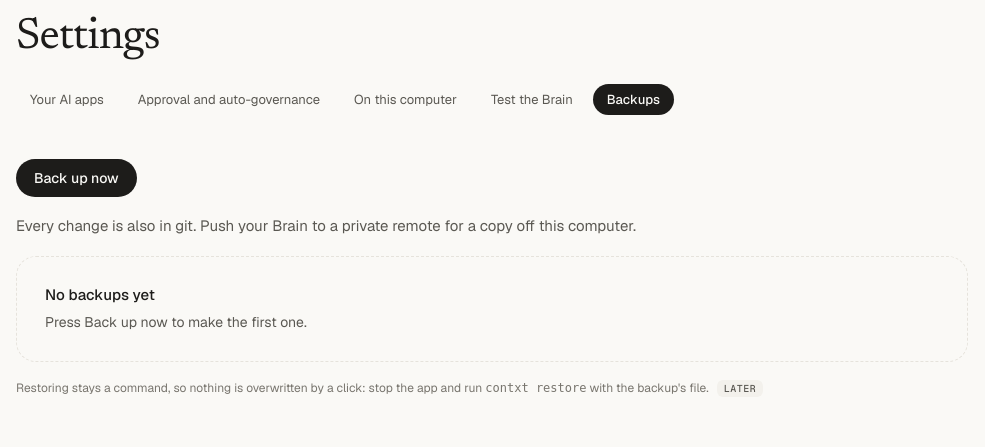
Test case: Settings, Backups › shows an empty state, then backs up now
expect the text "No backups yet" is shown: met, box [45,285,155,304]
Click the button "Back up now" at (76, 178), box [16,159,137,197]
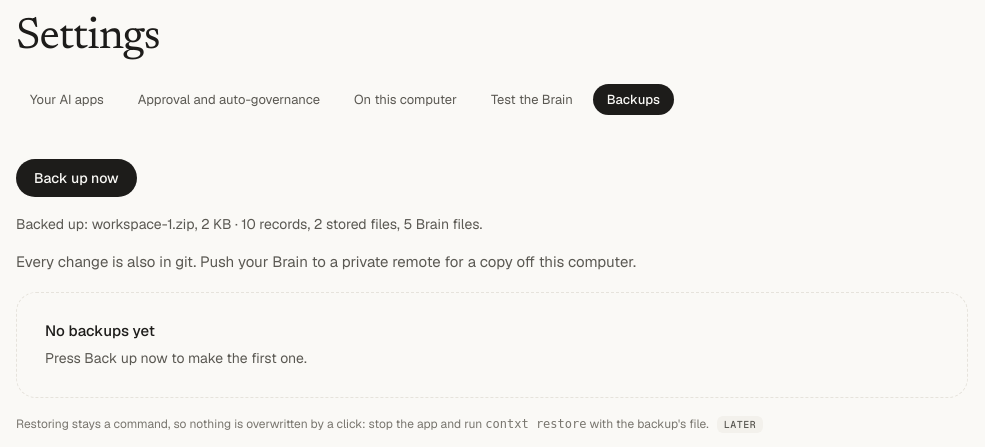
expect the text "Backed up: workspace-1.zip, 2 KB · 10 records, 2 stored files, 5 Brain files." is shown: met, box [16,215,482,233]
